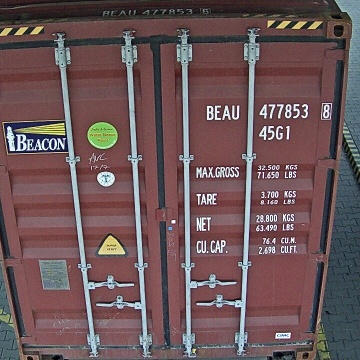serial_id: (207, 103, 331, 120)
